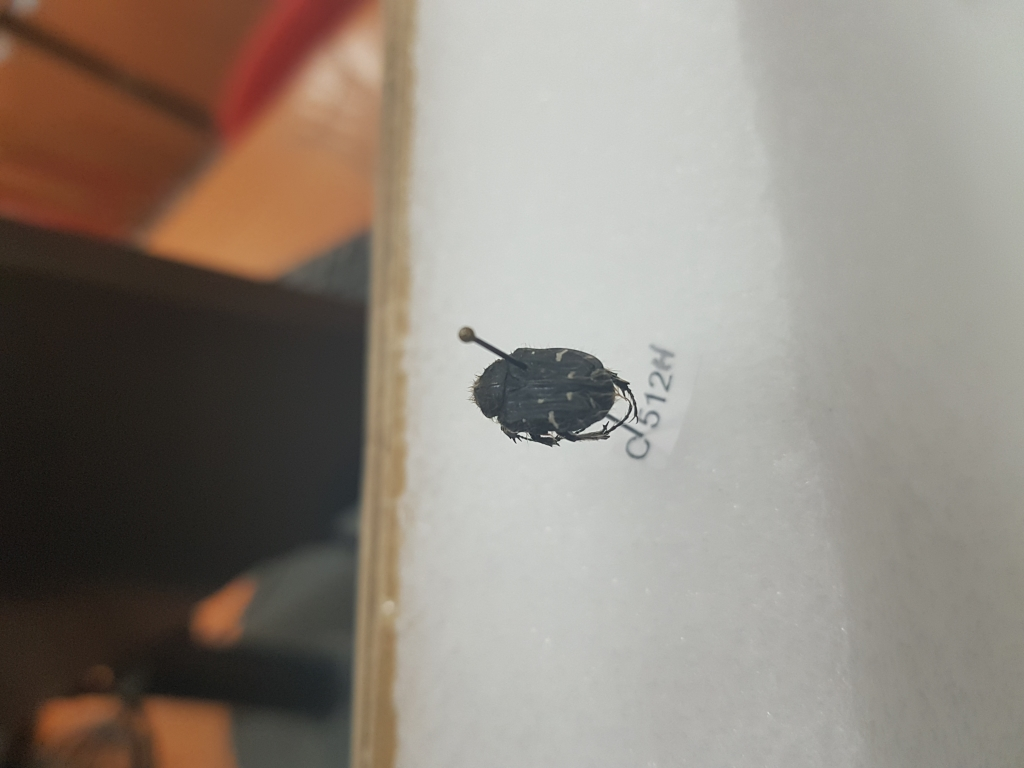Tropinota_senicula: (466, 340, 659, 445)
